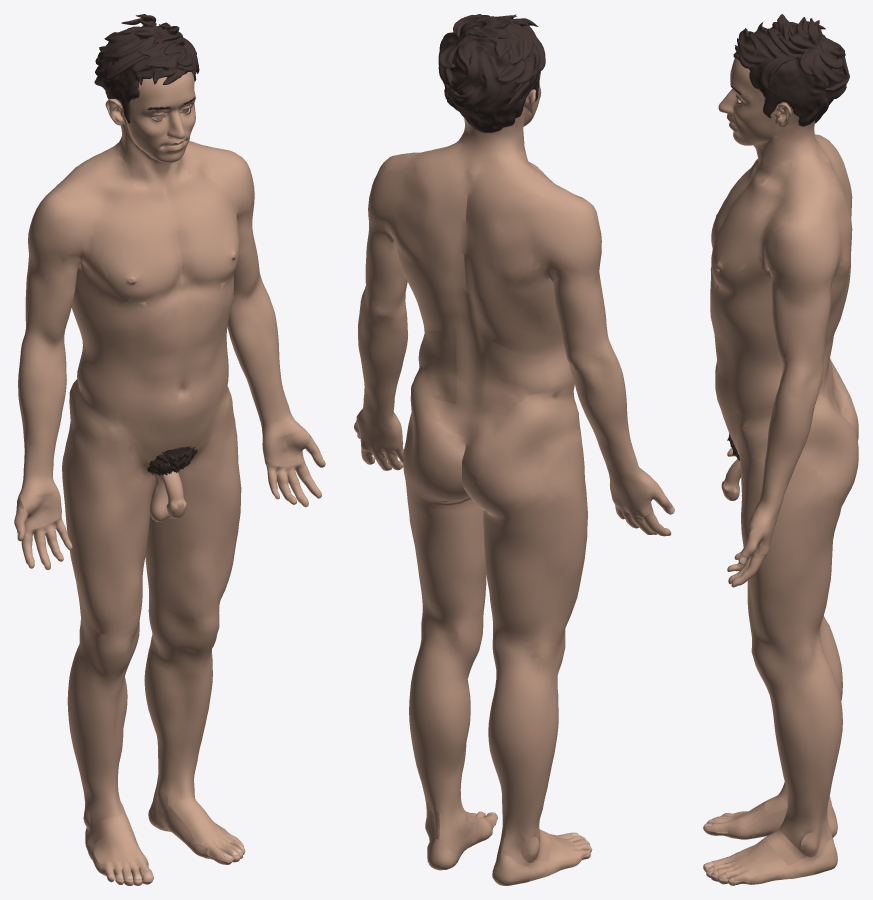
The model's file is male-integumentary.glb.
The picture shows the model from 3 angles, left to right: view 1: azimuth 30°, elevation 25°; view 2: azimuth 150°, elevation 25°; view 3: azimuth 270°, elevation 25°; orthographic projection. The views are drawn at different scales.
Visible parts, largest first — view 1: Anterior_region_of_thighr, Anterior_region_of_thighl, Hairs_of_head, Anterior_region_of_legl, Anterior_region_of_legr, Pectoral_regionr, Deltoid_regionr, Anterior_region_of_forearml, Anterior_region_of_forearmr, Lateral_region_of_thoraxr, Lateral_region_of_abdomenr, Pectoral_regionl (+46 smaller); view 2: Posterior_region_of_thighr, Hairs_of_head, Gluteal_regionr, Posterior_region_of_thighl, Posterior_region_of_legr, Posterior_region_of_legl, Gluteal_regionl, Scapular_regionr, Posterior_region_of_armr, Infrascapular_regionr, Scapular_regionl, Posterior_region_of_forearmr (+32 smaller); view 3: Hairs_of_head, Anterior_region_of_thighl, Posterior_region_of_thighl, Deltoid_regionl, Gluteal_regionl, Posterior_region_of_legl, Lateral_region_of_thoraxl, Anterior_region_of_legl, Lateral_region_of_abdomenl, Pectoral_regionl, Posterior_region_of_arml, Posterior_region_of_neckl (+45 smaller).
Boxes of the visible parts, left/top/right/bottom form: Anterior_region_of_thighr: left=69, top=382, right=154, bottom=636; Anterior_region_of_thighl: left=150, top=383, right=241, bottom=615; Hairs_of_head: left=94, top=14, right=199, bottom=123; Anterior_region_of_legl: left=153, top=654, right=212, bottom=780; Anterior_region_of_legr: left=74, top=674, right=127, bottom=799; Pectoral_regionr: left=94, top=205, right=174, bottom=302; Deltoid_regionr: left=28, top=174, right=90, bottom=271; Anterior_region_of_forearml: left=228, top=304, right=292, bottom=425; Anterior_region_of_forearmr: left=22, top=360, right=66, bottom=481; Lateral_region_of_thoraxr: left=71, top=225, right=147, bottom=333; Lateral_region_of_abdomenr: left=77, top=342, right=147, bottom=422; Pectoral_regionl: left=183, top=179, right=238, bottom=284; Posterior_region_of_thighr: left=483, top=496, right=579, bottom=640; Hairs_of_head: left=438, top=14, right=545, bottom=133; Gluteal_regionr: left=462, top=392, right=567, bottom=518; Posterior_region_of_thighl: left=404, top=472, right=485, bottom=624; Posterior_region_of_legr: left=488, top=688, right=555, bottom=830; Posterior_region_of_legl: left=409, top=667, right=468, bottom=813; Gluteal_regionl: left=403, top=360, right=470, bottom=501; Scapular_regionr: left=486, top=191, right=559, bottom=287; Posterior_region_of_armr: left=543, top=242, right=606, bottom=348; Infrascapular_regionr: left=475, top=273, right=545, bottom=354; Scapular_regionl: left=379, top=164, right=436, bottom=266; Posterior_region_of_forearmr: left=570, top=368, right=640, bottom=475; Hairs_of_head: left=733, top=14, right=849, bottom=126; Anterior_region_of_thighl: left=738, top=407, right=787, bottom=646; Posterior_region_of_thighl: left=783, top=506, right=841, bottom=645; Deltoid_regionl: left=763, top=197, right=834, bottom=297; Gluteal_regionl: left=798, top=395, right=858, bottom=509; Posterior_region_of_legl: left=798, top=679, right=842, bottom=822; Lateral_region_of_thoraxl: left=715, top=229, right=846, bottom=343; Anterior_region_of_legl: left=770, top=696, right=806, bottom=822; Lateral_region_of_abdomenl: left=723, top=347, right=782, bottom=414; Pectoral_regionl: left=711, top=197, right=769, bottom=291; Posterior_region_of_arml: left=799, top=248, right=839, bottom=364; Posterior_region_of_neckl: left=784, top=120, right=834, bottom=199.
Size of the model in its own units: 2.18 by 5.58 by 0.9402.
